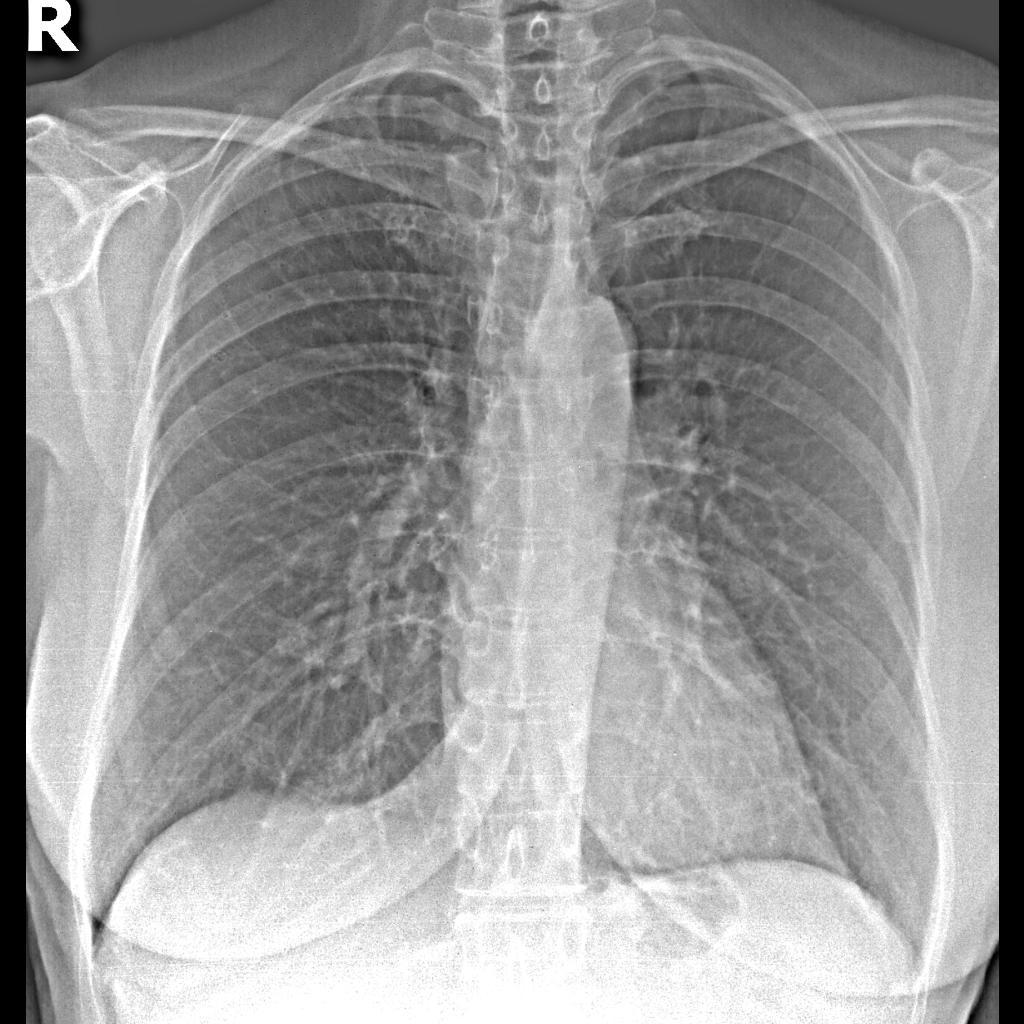Nodule: (265, 608, 324, 673)
